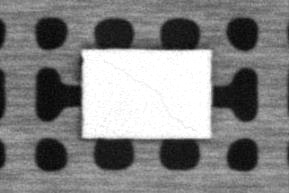DIE_CRACK: (104, 61, 200, 131)
